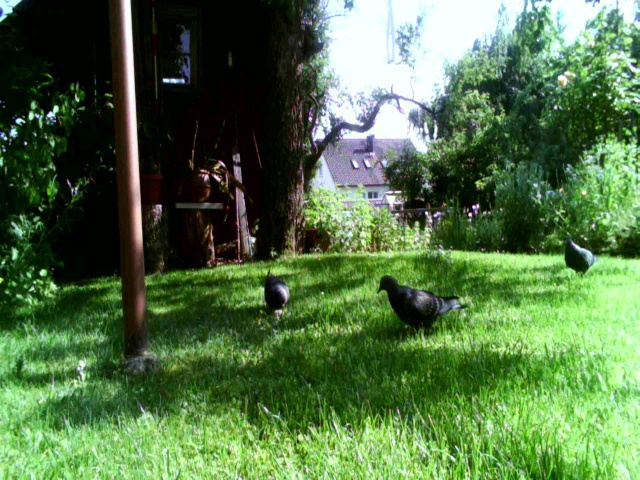Pigeon: (365, 269, 469, 341), (258, 263, 304, 320), (559, 234, 603, 281)
